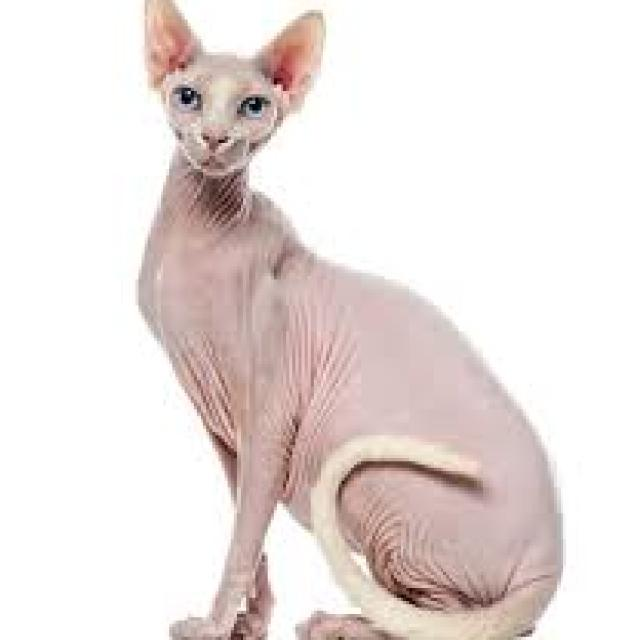Sphynx: (129, 0, 569, 640)
